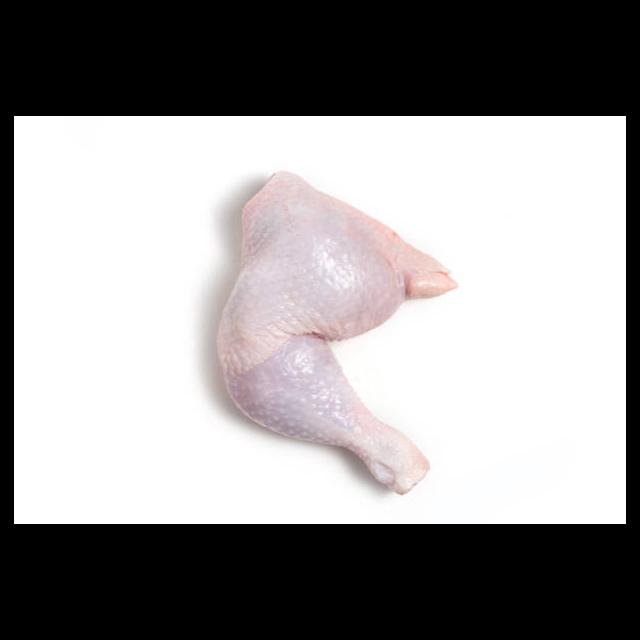chicken: (216, 168, 460, 495)
